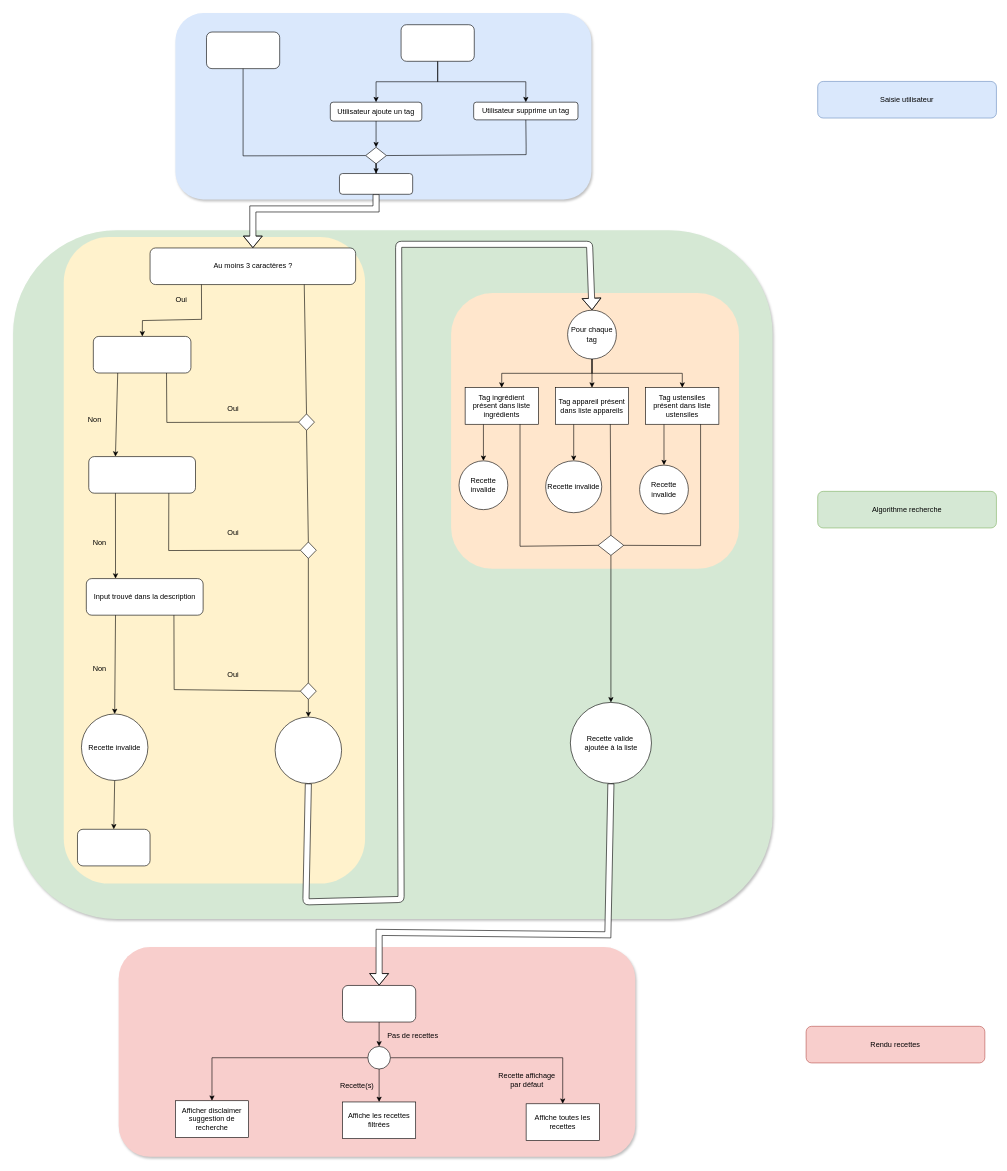
The diagram is 1007 pixels wide and 1171 high, and some of its shapes have lost their labels. The shapes that lost their labels are listed below. From the top down, each one's centre as x and y in pixels, then its label:
At (x=243, y=50): "Barre de recherche modifiée".
At (x=437, y=42): "Tags".
At (x=376, y=183): "Pour chaque recette".
At (x=142, y=354): "input trouvé dans le titre".
At (x=142, y=474): "Input trouvé dans ingrédients".
At (x=308, y=750): "Recette valide".
At (x=113, y=847): "Recette non ajoutée".
At (x=379, y=1003): "Recettes valides".
